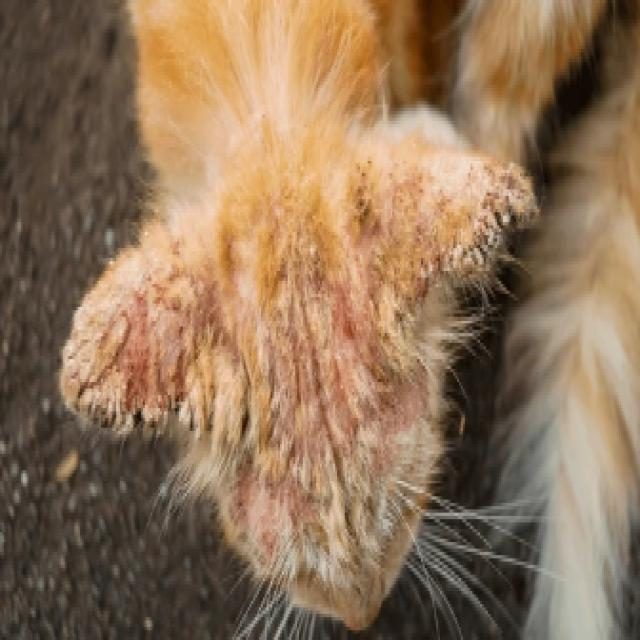Mange: (453, 146, 538, 284), (82, 328, 171, 452), (370, 379, 419, 487), (238, 477, 284, 553)
